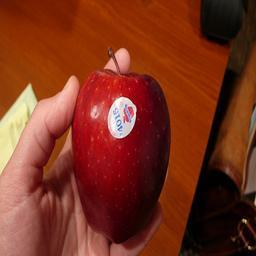apple: (71, 69, 171, 243)
